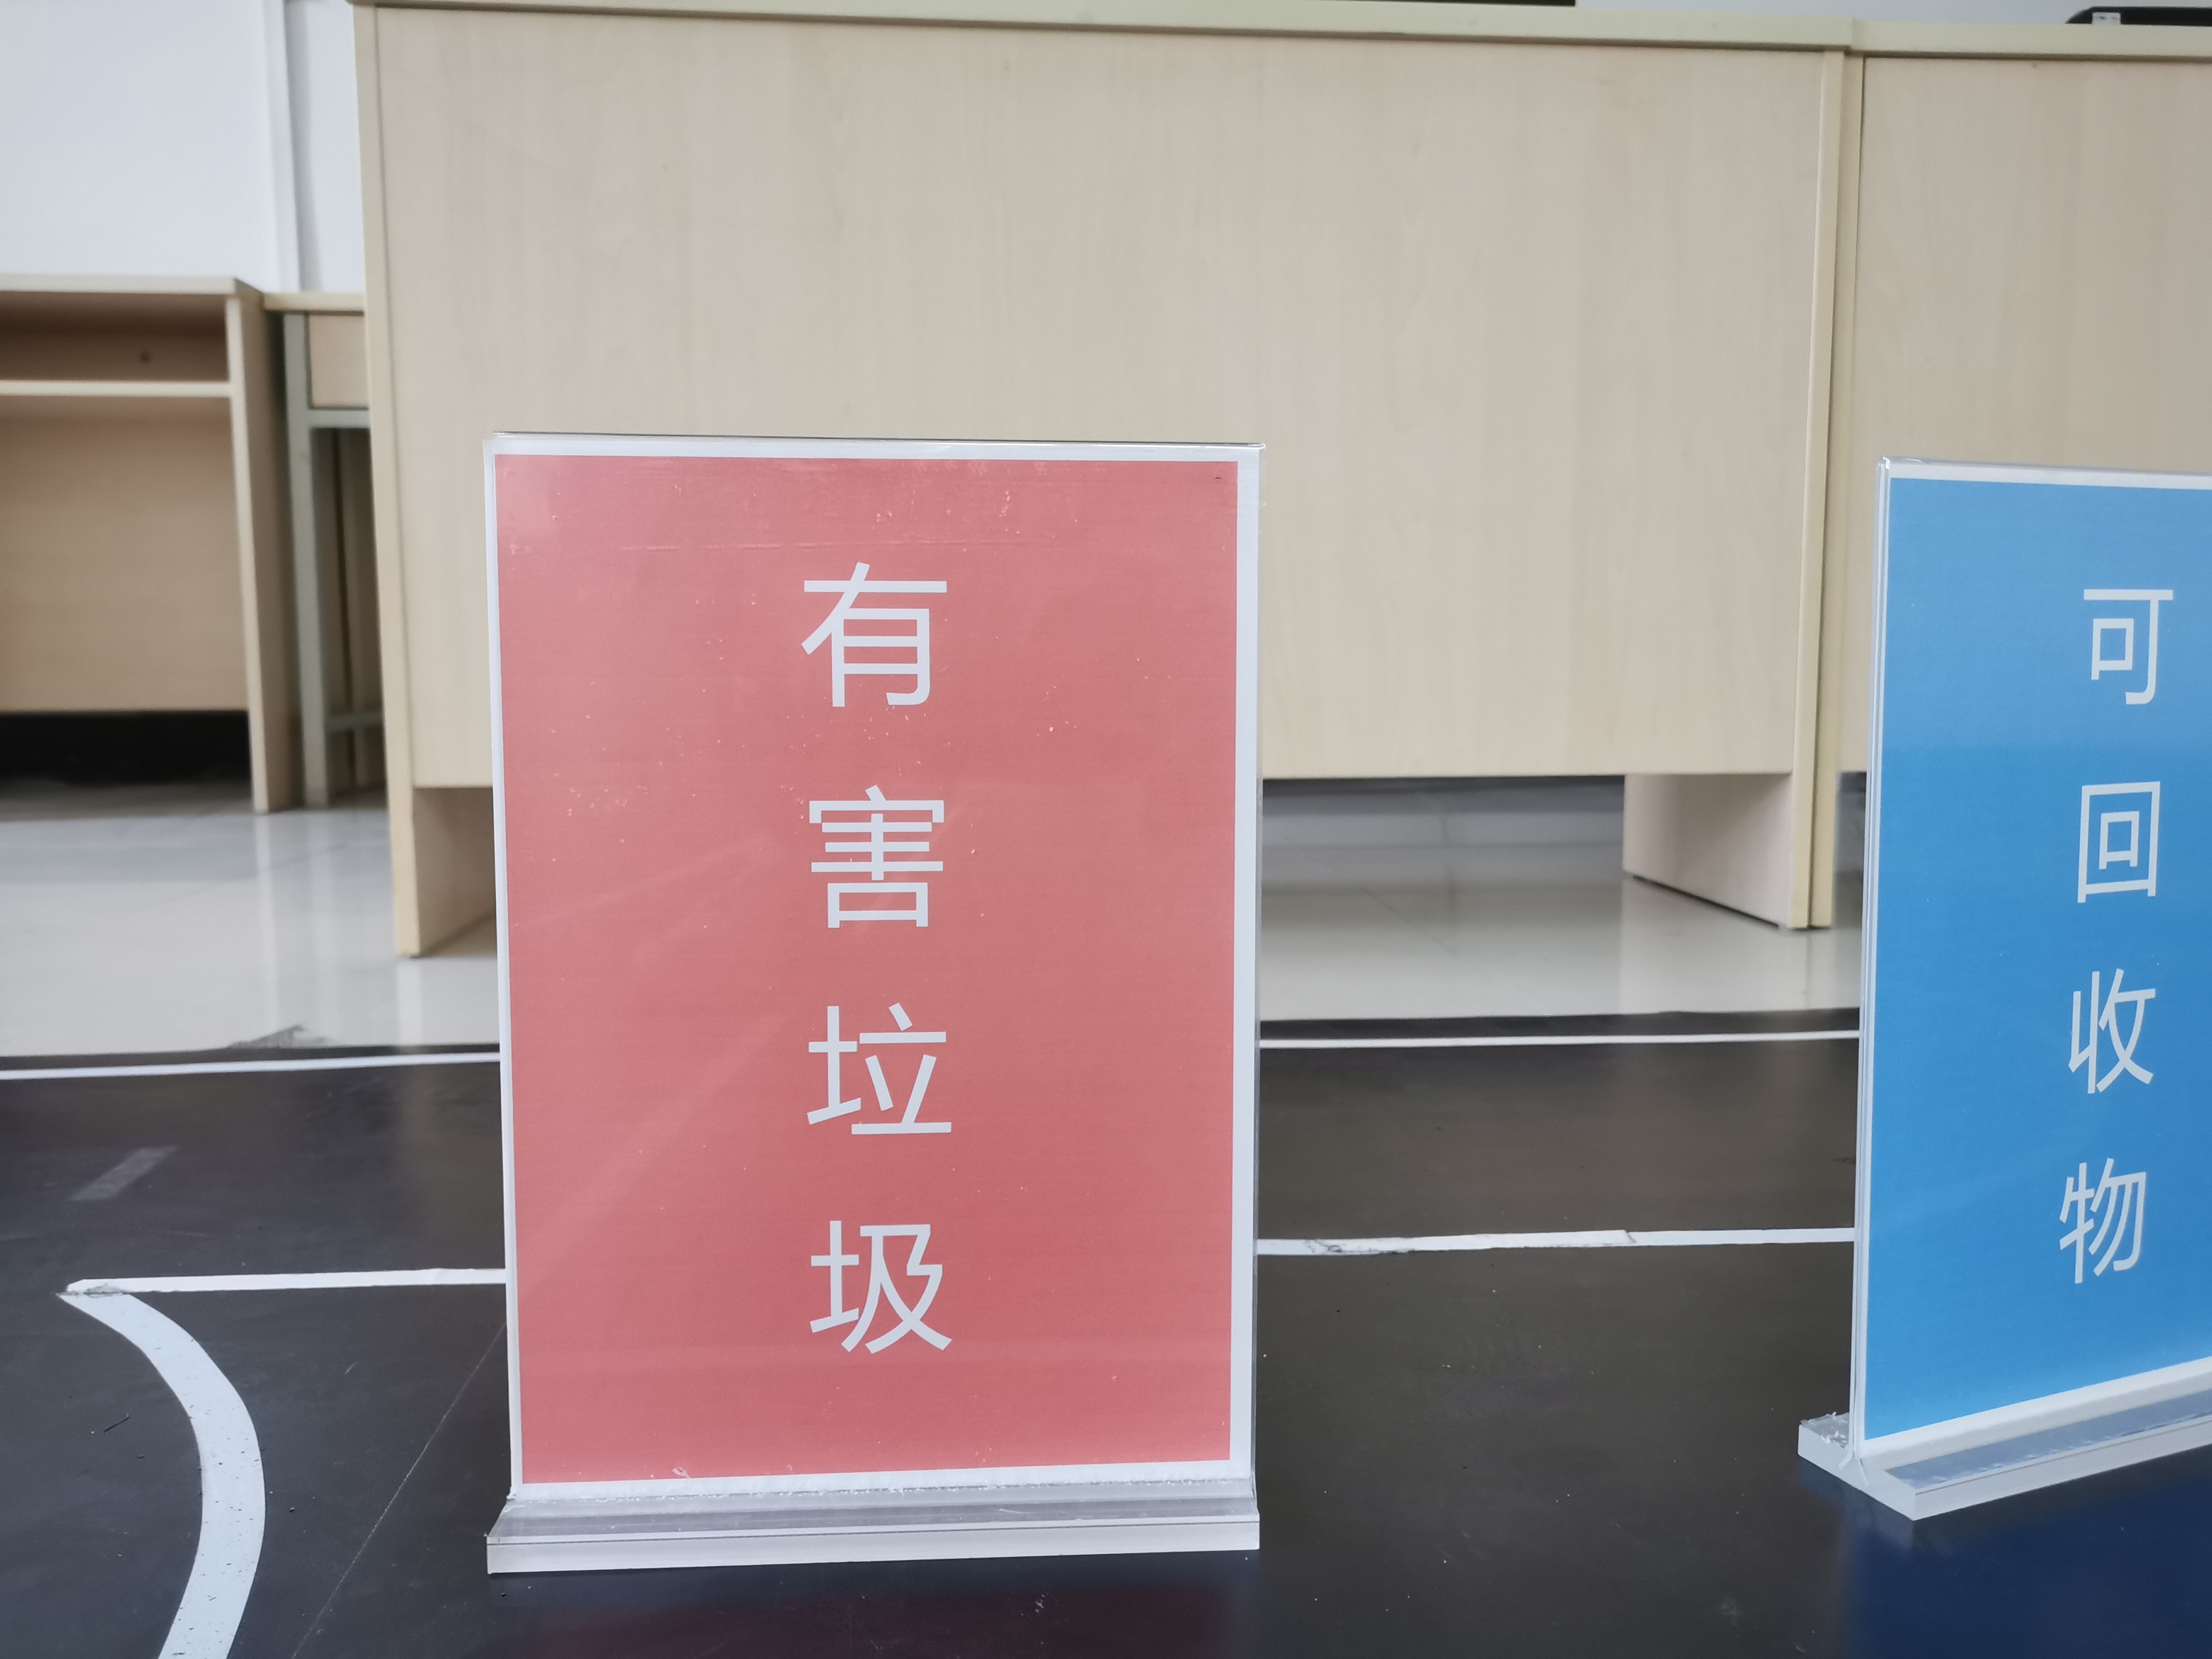blue: (1895, 500, 2212, 1347)
red: (507, 472, 1223, 1453)
